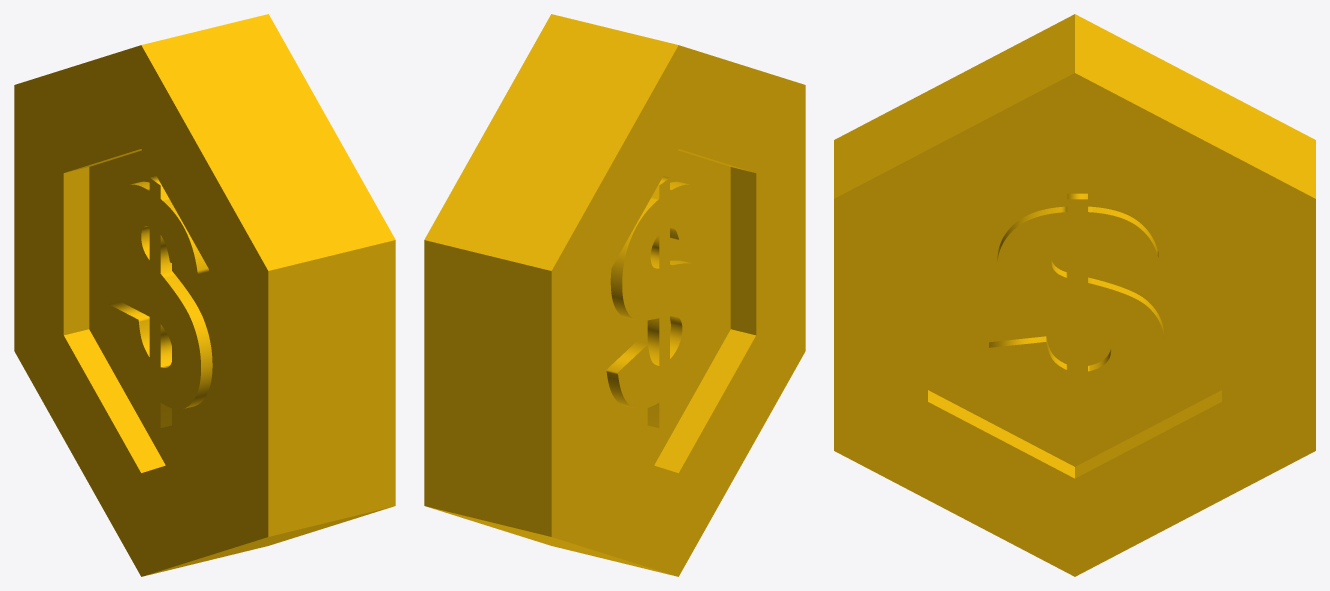
Rendered from coin3.fbx.
3 views of the same model, side by side, from view 1: azimuth 30°, elevation 25°; view 2: azimuth 150°, elevation 25°; view 3: azimuth 270°, elevation 25° (orthographic). The views are drawn at different scales.
Visible parts, largest first — view 1: Cylinder.001; view 2: Cylinder.001; view 3: Cylinder.001.
Part boxes in pixels (box(x1,y1,x2,y2)): Cylinder.001: box(14, 14, 395, 576); Cylinder.001: box(424, 14, 805, 576); Cylinder.001: box(834, 14, 1315, 576).
Bounding box in the file's own units: 50.13 × 200 × 173.
